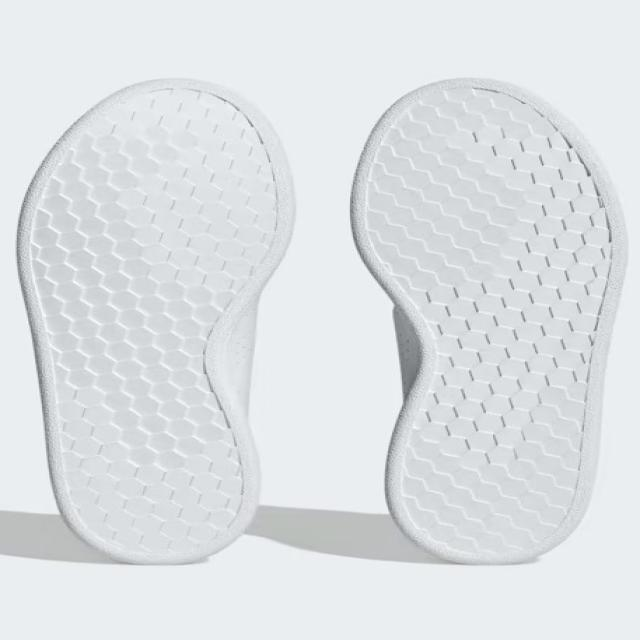shoe: (10, 73, 301, 570), (343, 72, 632, 569)
